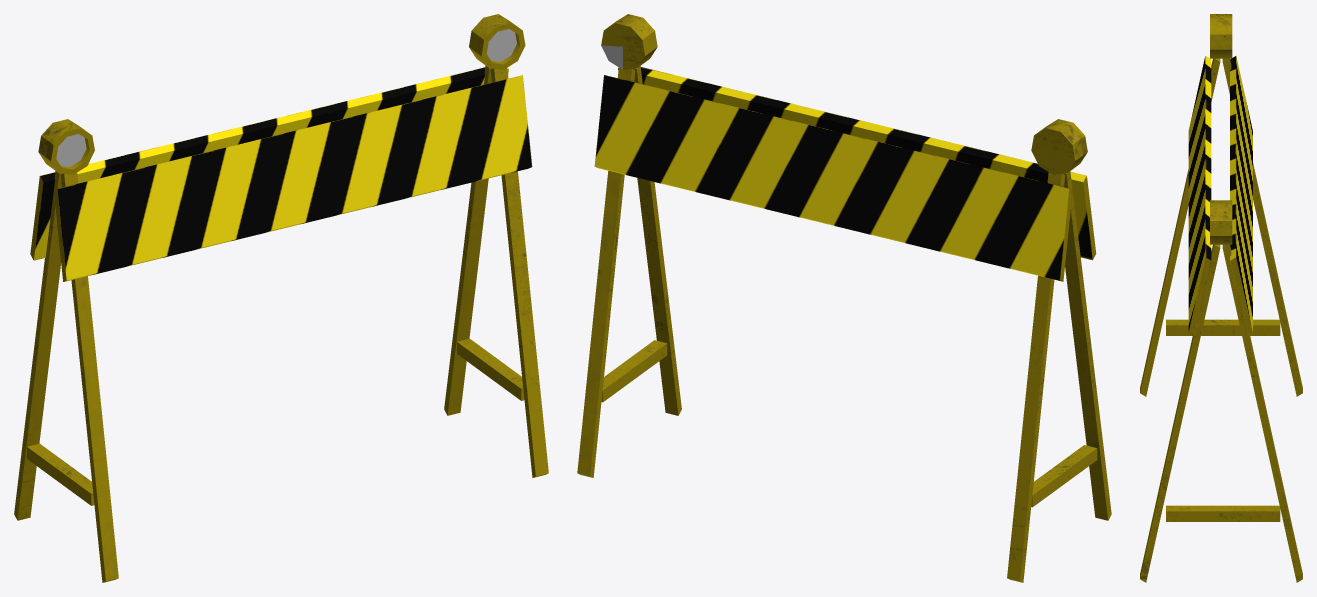
File: stop2.fbx
3 renders of one model, left to right at view 1: azimuth 30°, elevation 25°; view 2: azimuth 150°, elevation 25°; view 3: azimuth 270°, elevation 25°, orthographic. The views are drawn at different scales.
Visible parts, largest first — view 1: dorogznak_5; view 2: dorogznak_5; view 3: dorogznak_5.
Boxes of the visible parts, left/top/right/bottom form: dorogznak_5: left=14, top=14, right=548, bottom=582; dorogznak_5: left=577, top=14, right=1111, bottom=582; dorogznak_5: left=1140, top=14, right=1302, bottom=582.
Size of the model in its own units: 78.62 by 67.29 by 26.34.
